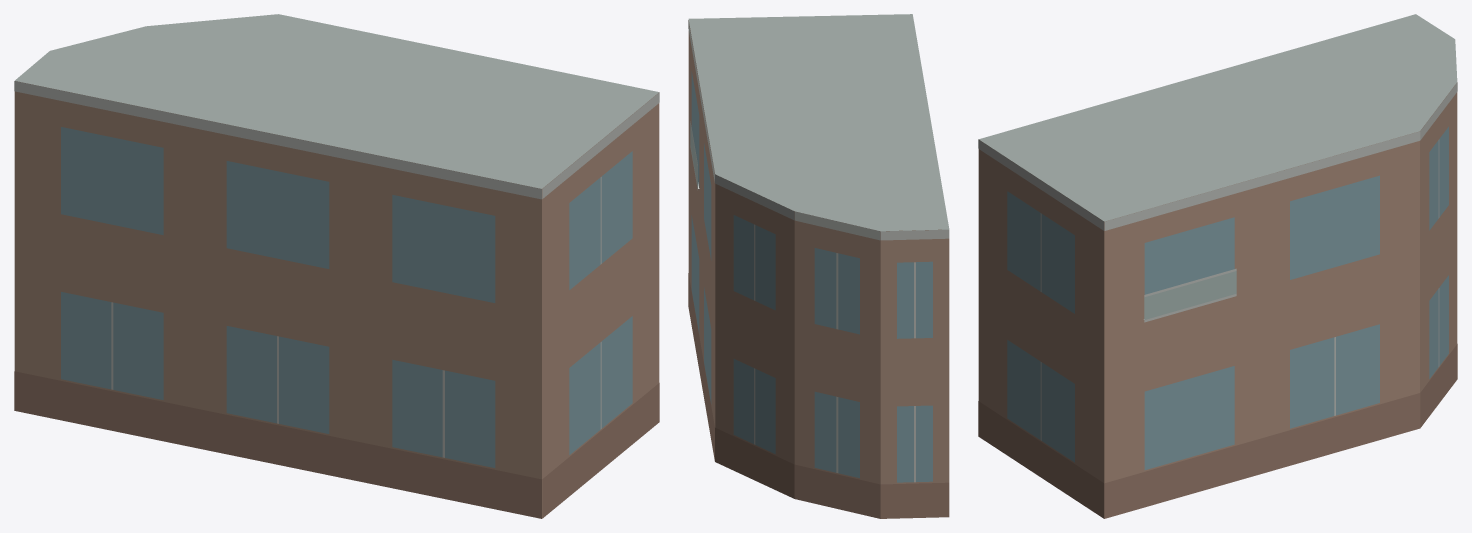
Rendered from survey-upis-32604210.glb.
3 views of the same model, side by side, from view 1: azimuth 30°, elevation 25°; view 2: azimuth 150°, elevation 25°; view 3: azimuth 270°, elevation 25° (orthographic). The views are drawn at different scales.
Visible parts, largest first — view 1: survey-upis-32604210.tmp; view 2: survey-upis-32604210.tmp; view 3: survey-upis-32604210.tmp.
Boxes of the visible parts, bbox=[...] form: survey-upis-32604210.tmp: bbox=[14, 14, 659, 518]; survey-upis-32604210.tmp: bbox=[688, 14, 949, 518]; survey-upis-32604210.tmp: bbox=[978, 14, 1457, 518].
Size of the model in its own units: 11.39 by 7.6 by 11.11.
